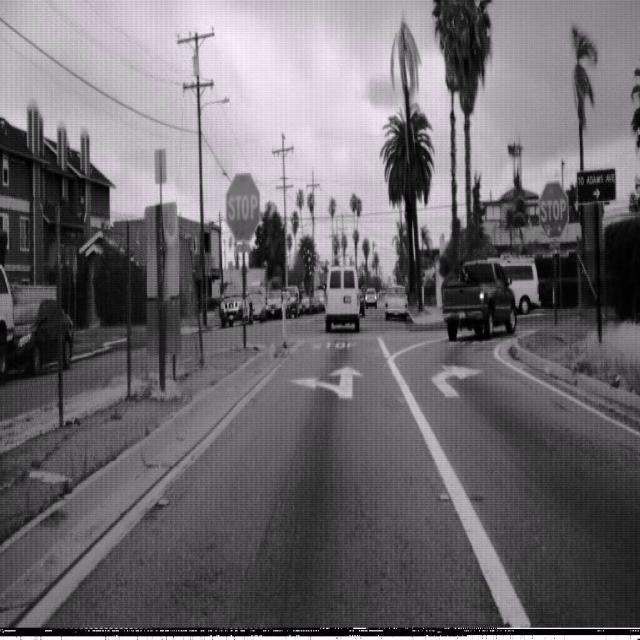stop: (225, 172, 261, 242), (538, 180, 569, 239)
